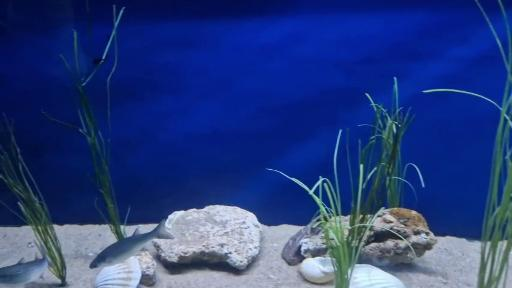Fish: (90, 218, 174, 268), (0, 246, 49, 284)
